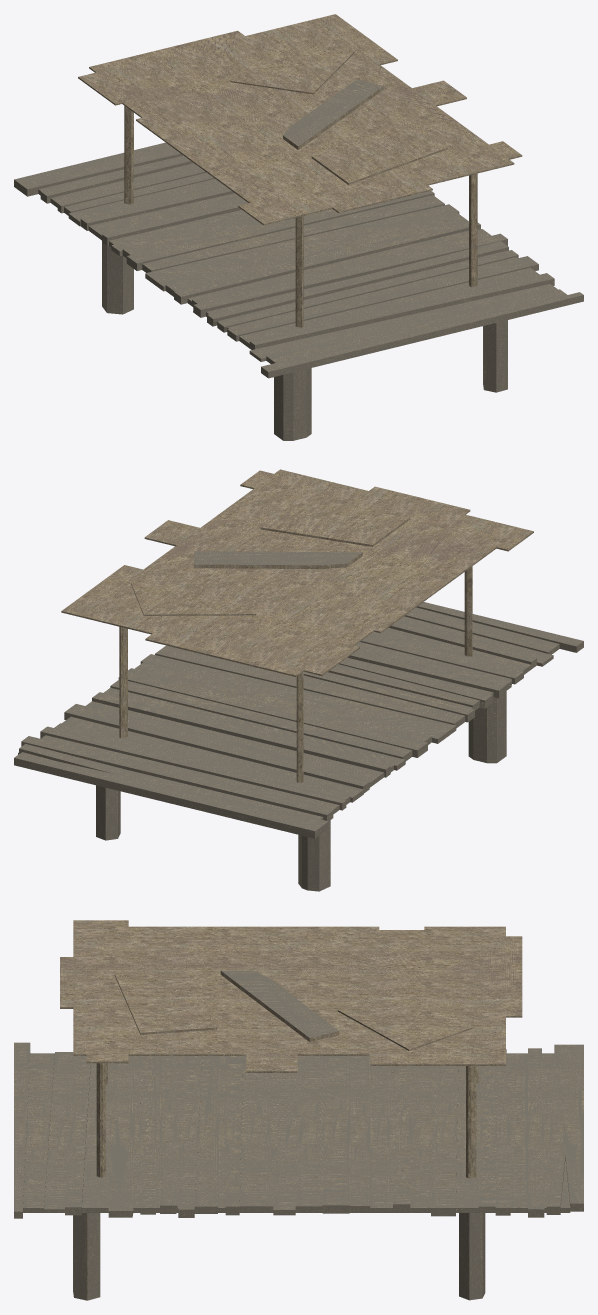
File: Shade 2.fbx
3 renders of one model, top to bottom at view 1: azimuth 30°, elevation 25°; view 2: azimuth 150°, elevation 25°; view 3: azimuth 270°, elevation 25°, orthographic. The views are drawn at different scales.
Visible parts, largest first — view 1: Model; view 2: Model; view 3: Model.
Boxes of the visible parts, x1,y1,x2,y2 form: Model: (14, 14, 583, 440); Model: (14, 469, 583, 891); Model: (14, 920, 583, 1300).
Bounding box in the file's own units: 11793 × 8170 × 16821.
